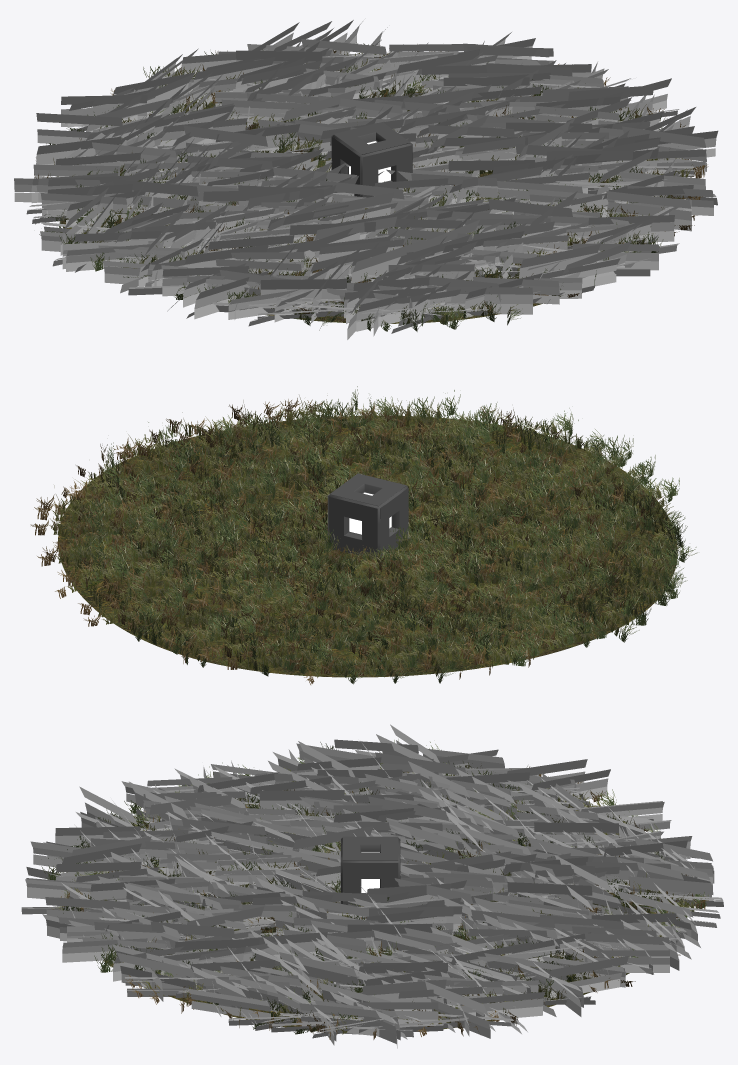
The model's file is grassEx.glb.
3 renders of one model, top to bottom at view 1: azimuth 30°, elevation 25°; view 2: azimuth 150°, elevation 25°; view 3: azimuth 270°, elevation 25°, orthographic.
Visible parts, largest first — view 1: grass2, grass1, grass3, Cube, grass; view 2: grass3, grass, Cube; view 3: grass1, grass2, grass3, Cube, grass.
Boxes of the visible parts, left/top/right/bottom form: grass2: left=32, top=20, right=717, bottom=336; grass1: left=14, top=21, right=718, bottom=339; grass3: left=34, top=42, right=708, bottom=331; Cube: left=331, top=122, right=412, bottom=197; grass: left=60, top=89, right=652, bottom=323; grass3: left=30, top=386, right=697, bottom=684; grass: left=58, top=415, right=677, bottom=677; Cube: left=327, top=473, right=408, bottom=558; grass1: left=25, top=724, right=723, bottom=1041; grass2: left=21, top=734, right=720, bottom=1048; grass3: left=41, top=739, right=708, bottom=1039; Cube: left=340, top=836, right=400, bottom=906; grass: left=63, top=819, right=684, bottom=1031.
Bounding box in the file's own units: 27.74 × 2.41 × 27.74.
4 materials, 2 textured.
